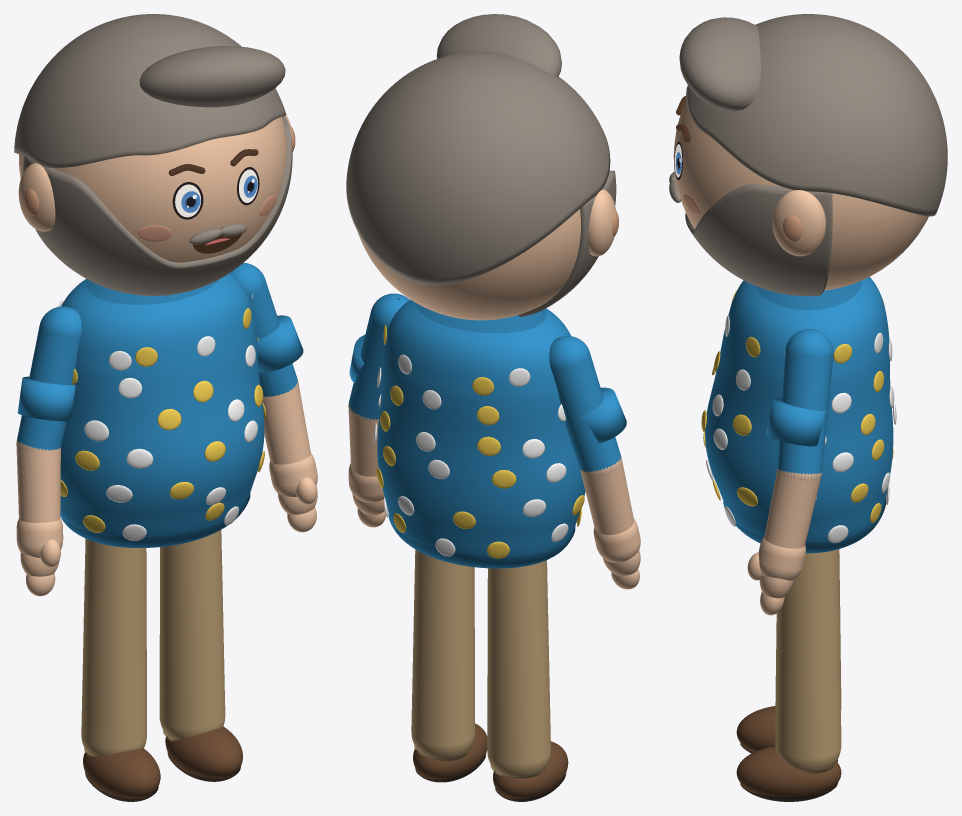
Rendered from papa_grijs.glb.
3 views of the same model, side by side, from view 1: azimuth 30°, elevation 25°; view 2: azimuth 150°, elevation 25°; view 3: azimuth 270°, elevation 25° (orthographic). The views are drawn at different scales.
Visible parts, largest first — view 1: papa_grijs_romp, papa_grijs_haar, papa_grijs_hoofd, papa_grijs_been_R, papa_grijs_been_L, papa_grijs_baard, papa_grijs, papa_grijs_haar_kuif, papa_grijs_bovenarm_R, papa_grijs_onderarm_R, papa_grijs_schoen_R, papa_grijs_schoen_L (+10 smaller); view 2: papa_grijs_haar, papa_grijs_romp, papa_grijs_been_R, papa_grijs_been_L, papa_grijs_hoofd, papa_grijs, papa_grijs_bovenarm_R, papa_grijs_haar_kuif, papa_grijs_bovenarm_L, papa_grijs_onderarm_R, papa_grijs_schoen_R, papa_grijs_romp_boord (+8 smaller); view 3: papa_grijs_haar, papa_grijs_romp, papa_grijs_been_L, papa_grijs_hoofd, papa_grijs_baard, papa_grijs_haar_kuif, papa_grijs, papa_grijs_bovenarm_L, papa_grijs_schoen_L, papa_grijs_onderarm_L, papa_grijs_oor_L, papa_grijs_mouwzoom_L (+5 smaller).
Boxes of the visible parts, x1=… form: papa_grijs_romp: x1=60, y1=273, x2=264, y2=537; papa_grijs_haar: x1=14, y1=14, x2=286, y2=167; papa_grijs_hoofd: x1=19, y1=117, x2=286, y2=262; papa_grijs_been_R: x1=81, y1=538, x2=146, y2=756; papa_grijs_been_L: x1=159, y1=530, x2=225, y2=739; papa_grijs_baard: x1=22, y1=116, x2=292, y2=295; papa_grijs: x1=57, y1=294, x2=265, y2=540; papa_grijs_haar_kuif: x1=139, y1=46, x2=285, y2=107; papa_grijs_bovenarm_R: x1=16, y1=306, x2=81, y2=450; papa_grijs_onderarm_R: x1=16, y1=443, x2=60, y2=522; papa_grijs_schoen_R: x1=83, y1=748, x2=160, y2=799; papa_grijs_schoen_L: x1=165, y1=726, x2=242, y2=779; papa_grijs_haar: x1=346, y1=51, x2=610, y2=285; papa_grijs_romp: x1=377, y1=299, x2=585, y2=557; papa_grijs_been_R: x1=487, y1=560, x2=550, y2=776; papa_grijs_been_L: x1=411, y1=549, x2=475, y2=758; papa_grijs_hoofd: x1=358, y1=168, x2=610, y2=320; papa_grijs: x1=373, y1=325, x2=584, y2=558; papa_grijs_bovenarm_R: x1=549, y1=336, x2=621, y2=475; papa_grijs_haar_kuif: x1=436, y1=14, x2=561, y2=76; papa_grijs_bovenarm_L: x1=348, y1=293, x2=409, y2=419; papa_grijs_onderarm_R: x1=580, y1=460, x2=633, y2=534; papa_grijs_schoen_R: x1=493, y1=741, x2=568, y2=799; papa_grijs_romp_boord: x1=388, y1=513, x2=575, y2=568; papa_grijs_haar: x1=686, y1=14, x2=947, y2=216; papa_grijs_romp: x1=705, y1=277, x2=893, y2=543; papa_grijs_been_L: x1=775, y1=549, x2=841, y2=771; papa_grijs_hoofd: x1=673, y1=100, x2=928, y2=290; papa_grijs_baard: x1=685, y1=183, x2=832, y2=296; papa_grijs_haar_kuif: x1=679, y1=17, x2=760, y2=111; papa_grijs: x1=701, y1=290, x2=896, y2=543; papa_grijs_bovenarm_L: x1=777, y1=329, x2=833, y2=480; papa_grijs_schoen_L: x1=736, y1=746, x2=841, y2=797; papa_grijs_onderarm_L: x1=764, y1=469, x2=820, y2=548; papa_grijs_oor_L: x1=772, y1=190, x2=825, y2=256; papa_grijs_mouwzoom_L: x1=766, y1=398, x2=826, y2=446.
Bounding box in the file's own units: 0.759 × 1.86 × 0.6207.
